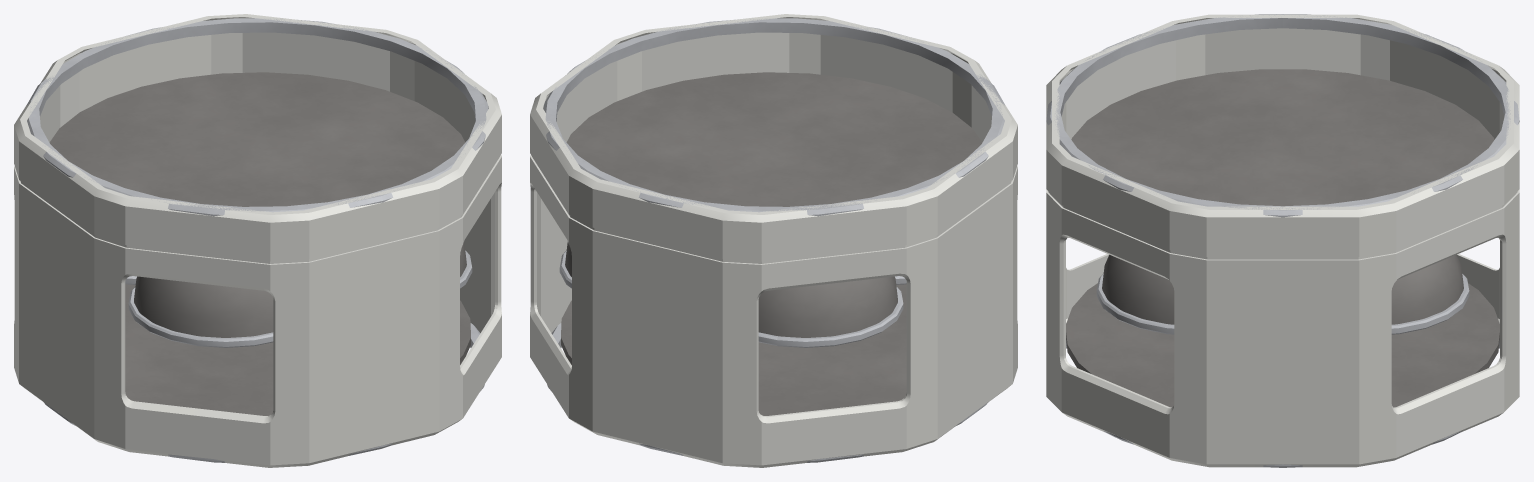
Rendered from ax_tank_06_hypergol_section_m.glb.
3 views of the same model, side by side, from view 1: azimuth 30°, elevation 25°; view 2: azimuth 150°, elevation 25°; view 3: azimuth 270°, elevation 25° (orthographic).
Parts seen in each view (by area): view 1: shell, decks, interface_rings, hypergol_spheres, tank_girth_rings; view 2: shell, decks, interface_rings, hypergol_spheres, tank_girth_rings; view 3: shell, decks, interface_rings, hypergol_spheres, tank_girth_rings.
Boxes of the visible parts, x1=… form: shell: x1=14, y1=14, x2=501, y2=467; decks: x1=49, y1=72, x2=470, y2=415; interface_rings: x1=27, y1=18, x2=488, y2=462; hypergol_spheres: x1=134, y1=242, x2=466, y2=337; tank_girth_rings: x1=125, y1=250, x2=472, y2=347; shell: x1=530, y1=14, x2=1017, y2=467; decks: x1=561, y1=72, x2=982, y2=415; interface_rings: x1=543, y1=18, x2=1004, y2=462; hypergol_spheres: x1=565, y1=242, x2=897, y2=337; tank_girth_rings: x1=559, y1=250, x2=906, y2=347; shell: x1=1046, y1=14, x2=1519, y2=467; decks: x1=1066, y1=69, x2=1499, y2=407; interface_rings: x1=1046, y1=14, x2=1519, y2=467; hypergol_spheres: x1=1102, y1=255, x2=1463, y2=324; tank_girth_rings: x1=1096, y1=274, x2=1469, y2=334.
Bounding box in the file's own units: 2.5 × 1.5 × 2.5.
3 materials, 2 textured.
